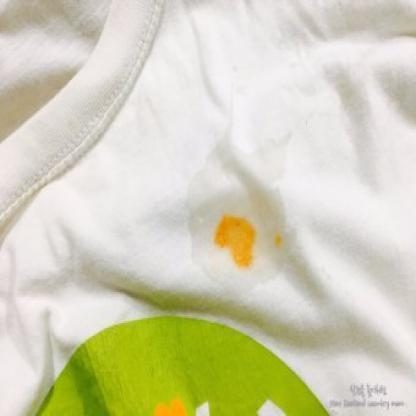kimchi: (204, 206, 258, 270), (271, 228, 287, 249)
